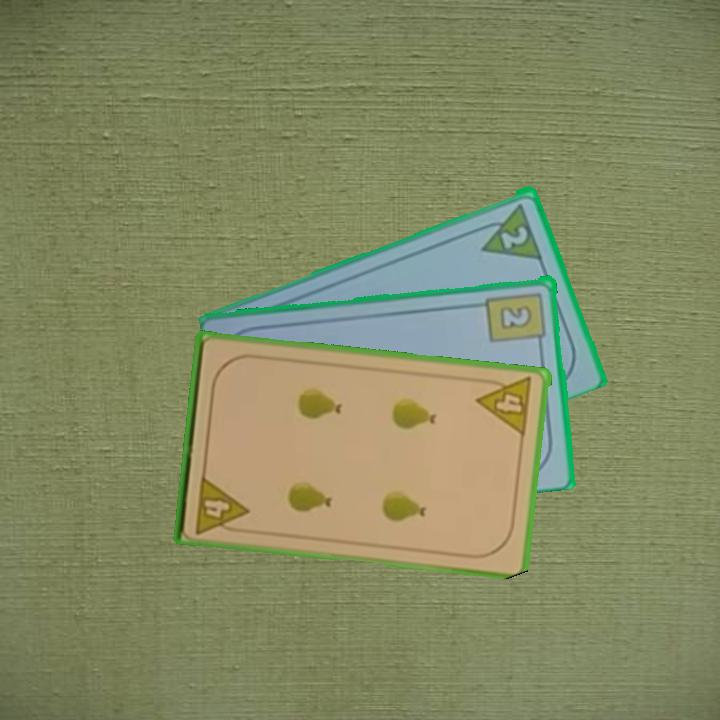2b: (483, 288, 549, 350)
2p: (472, 199, 545, 262)
4p: (475, 374, 536, 439), (191, 471, 251, 537)
